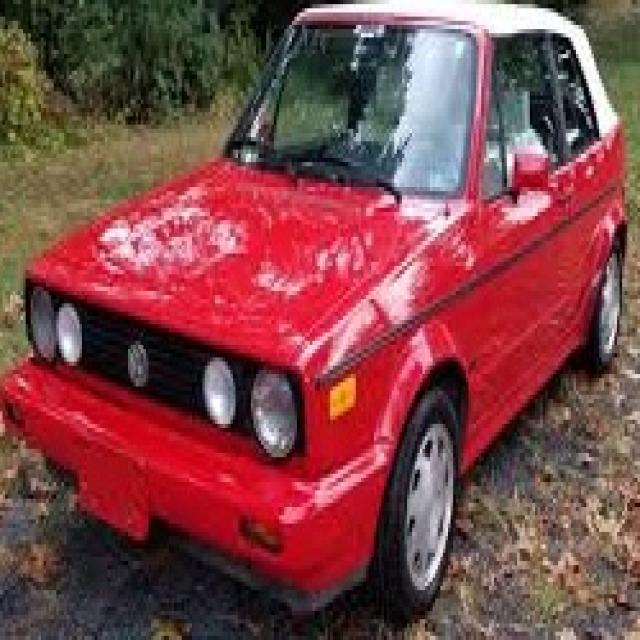red: (10, 15, 622, 538)
